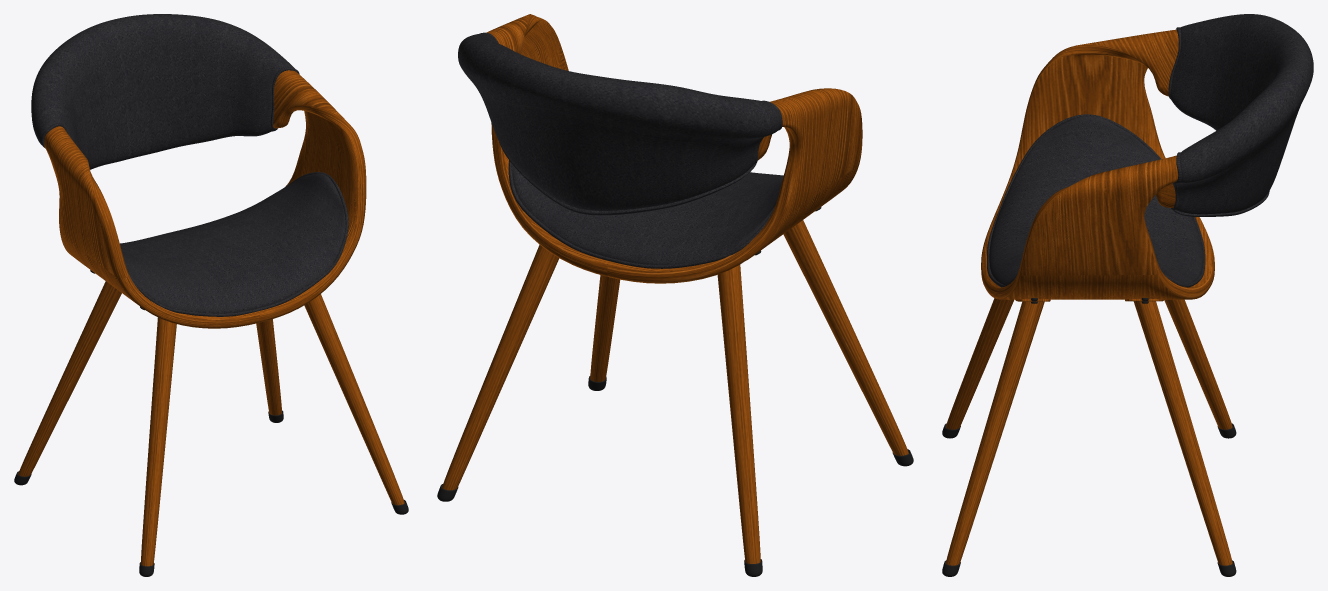
The model's file is GenericModernChair.glb.
The picture shows the model from 3 angles, left to right: view 1: azimuth 30°, elevation 25°; view 2: azimuth 150°, elevation 25°; view 3: azimuth 270°, elevation 25°; orthographic projection. The views are drawn at different scales.
Visible parts, largest first — view 1: Chair-2; view 2: Chair-2; view 3: Chair-2.
Boxes of the visible parts, bbox=[...] form: Chair-2: bbox=[14, 14, 408, 576]; Chair-2: bbox=[437, 14, 913, 576]; Chair-2: bbox=[942, 14, 1313, 576].
Bounding box in the file's own units: 293 × 428 × 317.
3 materials, 2 textured.
